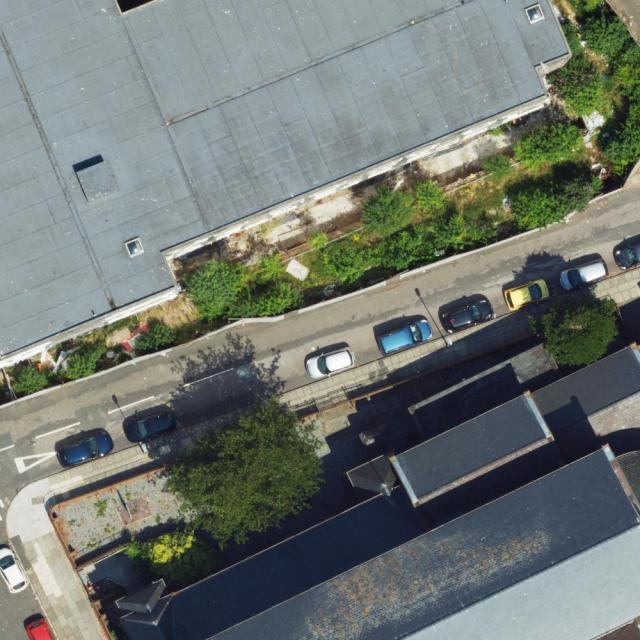roof: (0, 0, 570, 369), (110, 340, 640, 640)
skylight: (520, 1, 546, 28), (122, 235, 145, 259)
